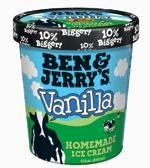grozi_118: (12, 7, 138, 165)
